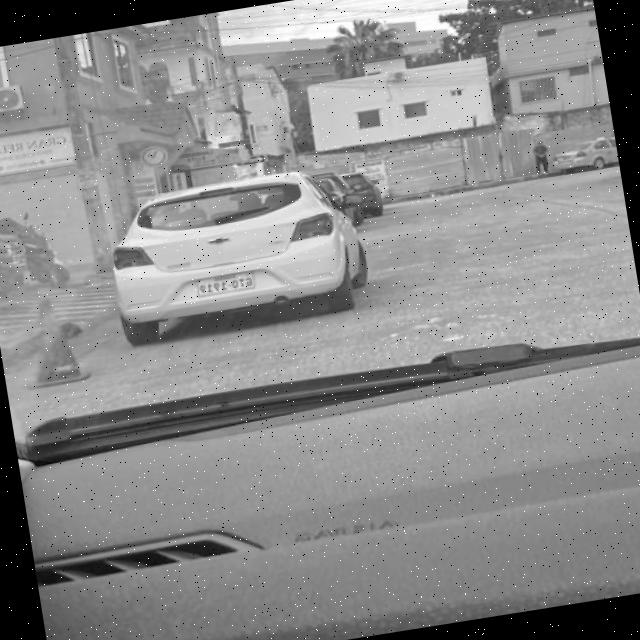Placa: (194, 273, 255, 300)
